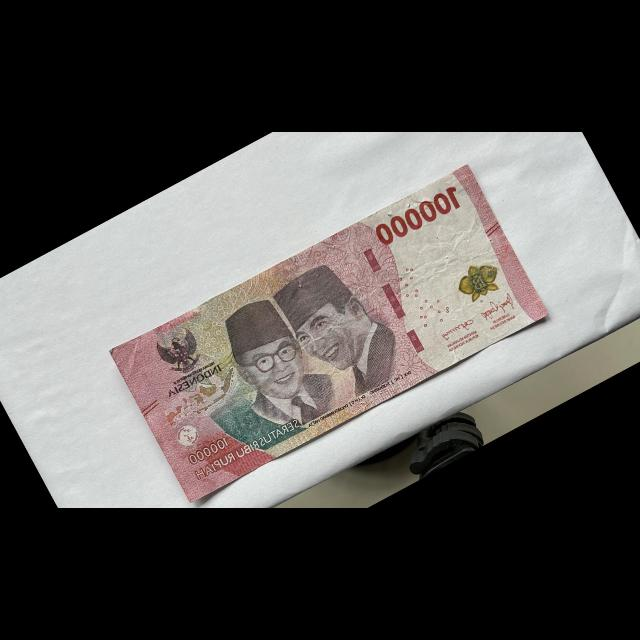Palsu-100k: (105, 158, 553, 508)
Tinta-Palsu-100k: (450, 255, 507, 306)
